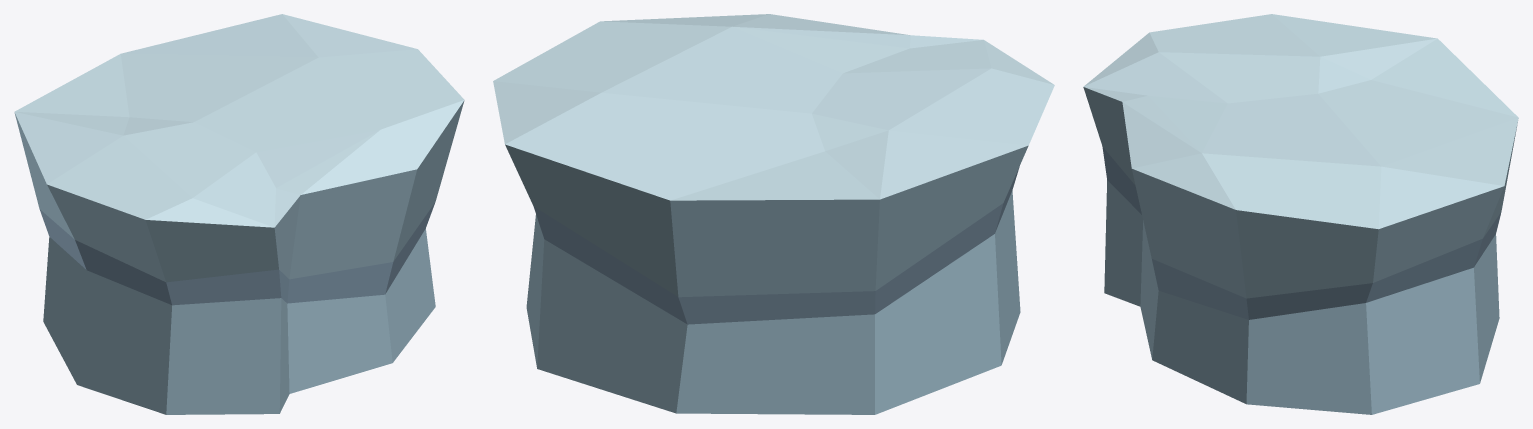
Rendered from SM_Env_Viking_Iceberg_01_Snow.fbx.
3 renders of one model, left to right at view 1: azimuth 30°, elevation 25°; view 2: azimuth 150°, elevation 25°; view 3: azimuth 270°, elevation 25°, orthographic. The views are drawn at different scales.
Parts seen in each view (by area): view 1: SM_Env_Viking_Iceberg_01_Snow; view 2: SM_Env_Viking_Iceberg_01_Snow; view 3: SM_Env_Viking_Iceberg_01_Snow.
Boxes of the visible parts, x1=… form: SM_Env_Viking_Iceberg_01_Snow: x1=14, y1=14, x2=464, y2=414; SM_Env_Viking_Iceberg_01_Snow: x1=493, y1=14, x2=1054, y2=414; SM_Env_Viking_Iceberg_01_Snow: x1=1083, y1=14, x2=1518, y2=414.
Size of the model in its own units: 120 by 57.58 by 107.
Materials: 1 (1 with a texture image).
